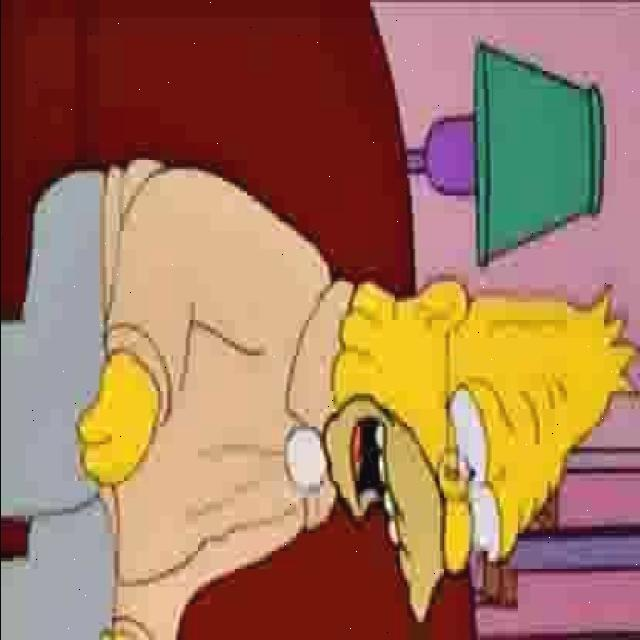Abraham Grampa Simpson: (322, 274, 640, 632)
